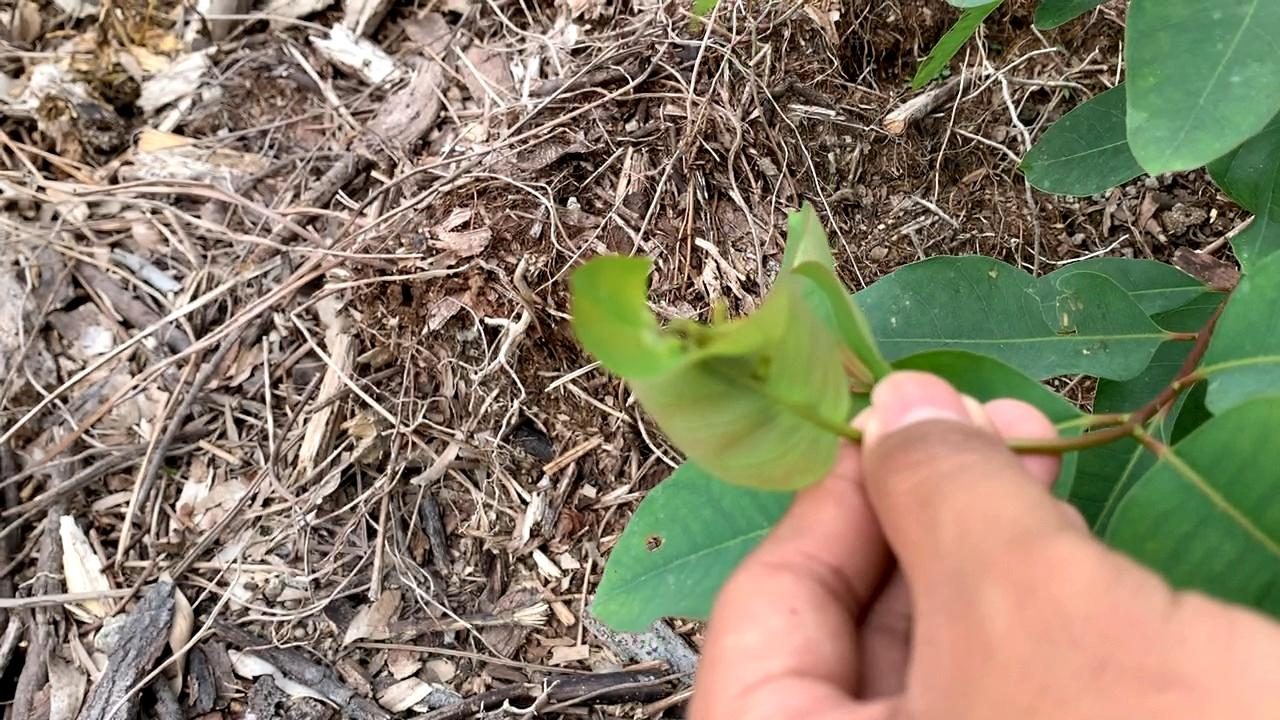Leaf Roller - Leaf: (570, 250, 857, 500)
